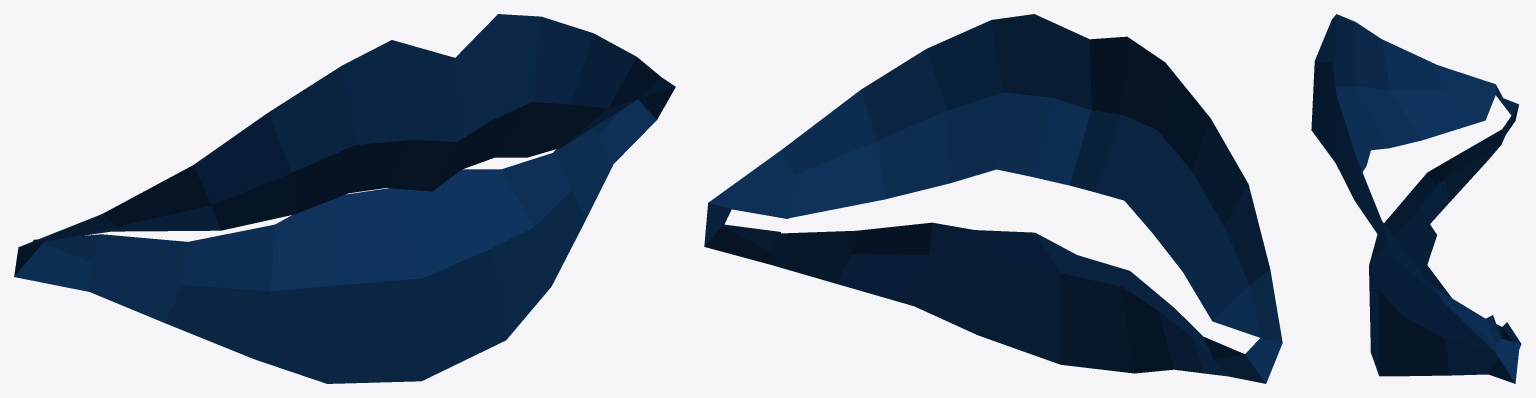
The model's file is psichedelic_abstract_geometry_loop_animation.glb.
The picture shows the model from 3 angles, left to right: view 1: azimuth 30°, elevation 25°; view 2: azimuth 150°, elevation 25°; view 3: azimuth 270°, elevation 25°; orthographic projection. The views are drawn at different scales.
Parts seen in each view (by area): view 1: Plane_001; view 2: Plane_001; view 3: Plane_001.
Boxes of the visible parts, x1,y1,x2,y2 form: Plane_001: (14,14,675,383); Plane_001: (704,14,1282,383); Plane_001: (1311,14,1521,383).
Size of what is drawn, in the model's own units: 0.5239 by 0.2828 by 0.1729.
